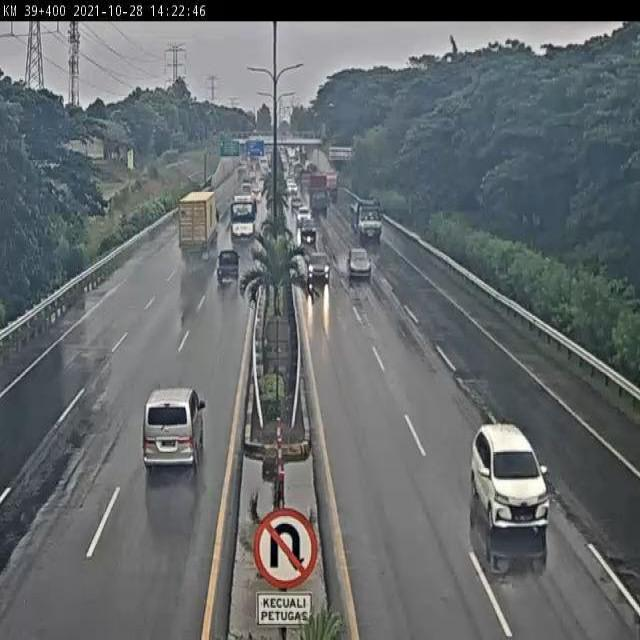big bus: (227, 196, 259, 244)
big truck: (174, 189, 222, 259), (348, 201, 383, 244), (307, 173, 328, 212)
car: (463, 412, 555, 541), (140, 380, 209, 480), (215, 248, 245, 293), (346, 248, 372, 285), (306, 253, 333, 286), (300, 224, 320, 247), (290, 194, 305, 214), (297, 206, 312, 226), (249, 183, 265, 201)
